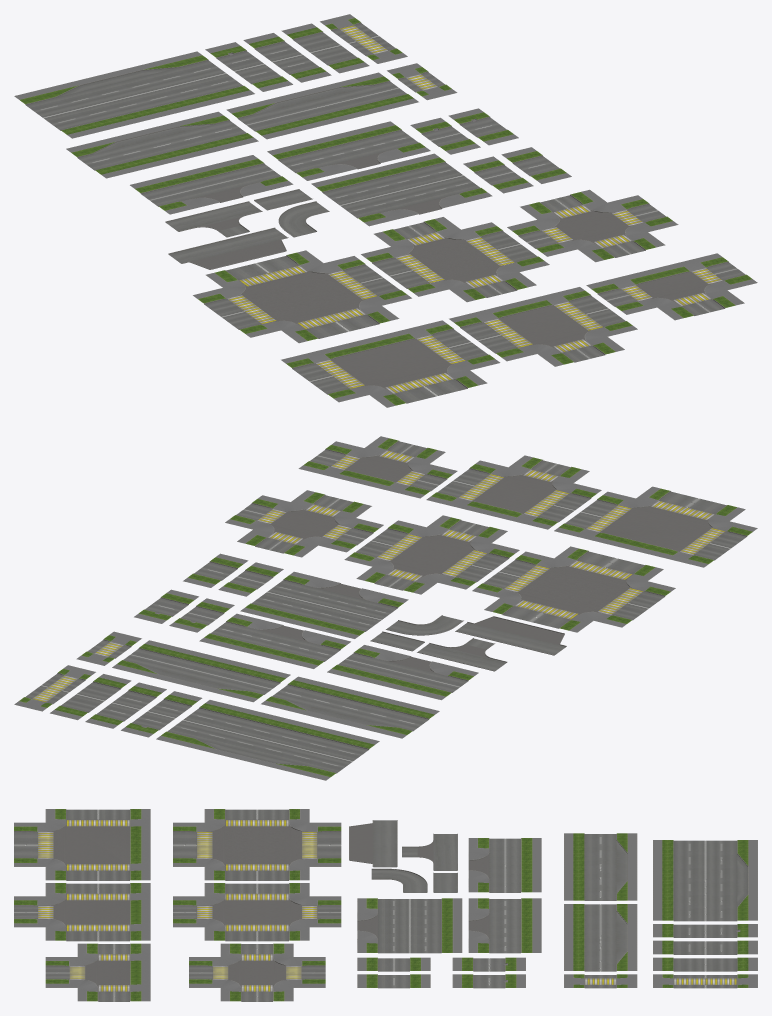
File: roadsRu.glb
The picture shows the model from 3 angles, top to bottom: view 1: azimuth 30°, elevation 25°; view 2: azimuth 150°, elevation 25°; view 3: azimuth 270°, elevation 25°; orthographic projection. The views are drawn at different scales.
Visible parts, largest first — view 1: object 9, object 4, Plane_grass_0, Plane.009_Road2x2_0, Plane.001_Road1_0, Plane_bord_0, Plane.004_decal1_0, Plane.005_Road2x_0, Plane_Road_0, Plane.021_RoadYard_0, Plane.004_Road3_0; view 2: object 4, object 9, Plane_grass_0, Plane.009_Road2x2_0, Plane.001_Road1_0, Plane_bord_0, Plane.004_decal1_0, Plane.005_Road2x_0, Plane_Road_0, Plane.021_RoadYard_0, Plane.004_Road3_0; view 3: object 9, object 4, Plane_grass_0, Plane.009_Road2x2_0, Plane.001_Road1_0, Plane.004_decal1_0, Plane.005_Road2x_0, Plane_bord_0, Plane_Road_0, Plane.021_RoadYard_0, Plane.004_Road3_0.
Boxes of the visible parts, <box> form: object 9: <box>191,151,723,393</box>; object 4: <box>14,14,757,407</box>; Plane_grass_0: <box>20,18,752,405</box>; Plane.009_Road2x2_0: <box>26,42,480,218</box>; Plane.001_Road1_0: <box>141,81,745,403</box>; Plane_bord_0: <box>14,14,757,407</box>; Plane.004_decal1_0: <box>228,25,722,393</box>; Plane.005_Road2x_0: <box>204,23,625,394</box>; Plane_Road_0: <box>78,117,559,175</box>; Plane.021_RoadYard_0: <box>165,189,328,263</box>; Plane.004_Road3_0: <box>339,25,444,92</box>; object 4: <box>14,436,757,780</box>; object 9: <box>257,450,725,673</box>; Plane_grass_0: <box>19,438,752,776</box>; Plane.009_Road2x2_0: <box>96,580,397,772</box>; Plane.001_Road1_0: <box>123,441,726,694</box>; Plane_bord_0: <box>15,436,757,780</box>; Plane.004_decal1_0: <box>33,450,724,701</box>; Plane.005_Road2x_0: <box>26,469,746,712</box>; Plane_Road_0: <box>145,562,428,731</box>; Plane.021_RoadYard_0: <box>371,615,566,670</box>; Plane.004_Road3_0: <box>32,640,130,702</box>; object 9: <box>38,819,489,991</box>; object 4: <box>14,809,757,1001</box>; Plane_grass_0: <box>14,809,748,1001</box>; Plane.009_Road2x2_0: <box>378,840,748,954</box>; Plane.001_Road1_0: <box>14,832,627,1001</box>; Plane.004_decal1_0: <box>38,820,736,991</box>; Plane.005_Road2x_0: <box>66,809,737,988</box>; Plane_bord_0: <box>14,809,757,1001</box>; Plane_Road_0: <box>378,834,627,988</box>; Plane.021_RoadYard_0: <box>371,820,457,892</box>; Plane.004_Road3_0: <box>584,975,737,988</box>.
Size of the model in its own units: 28.6 by 0.04 by 46.8.
Materials: 12 (12 with a texture image).
